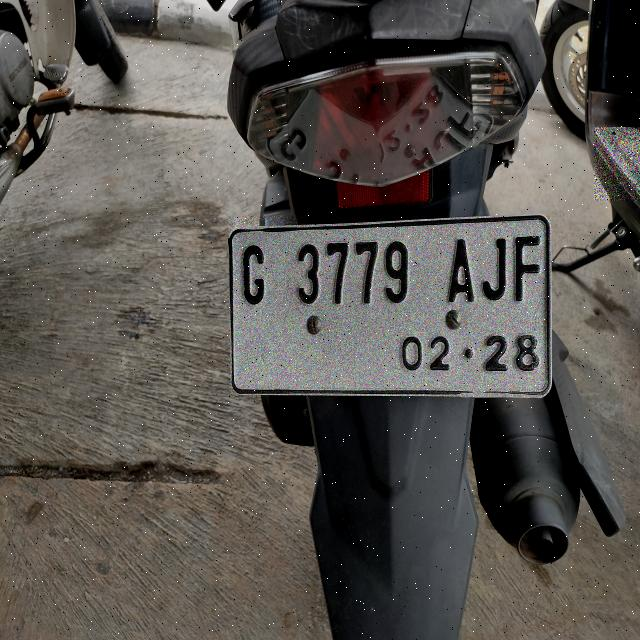plate: (229, 216, 550, 396), (595, 127, 639, 196)
